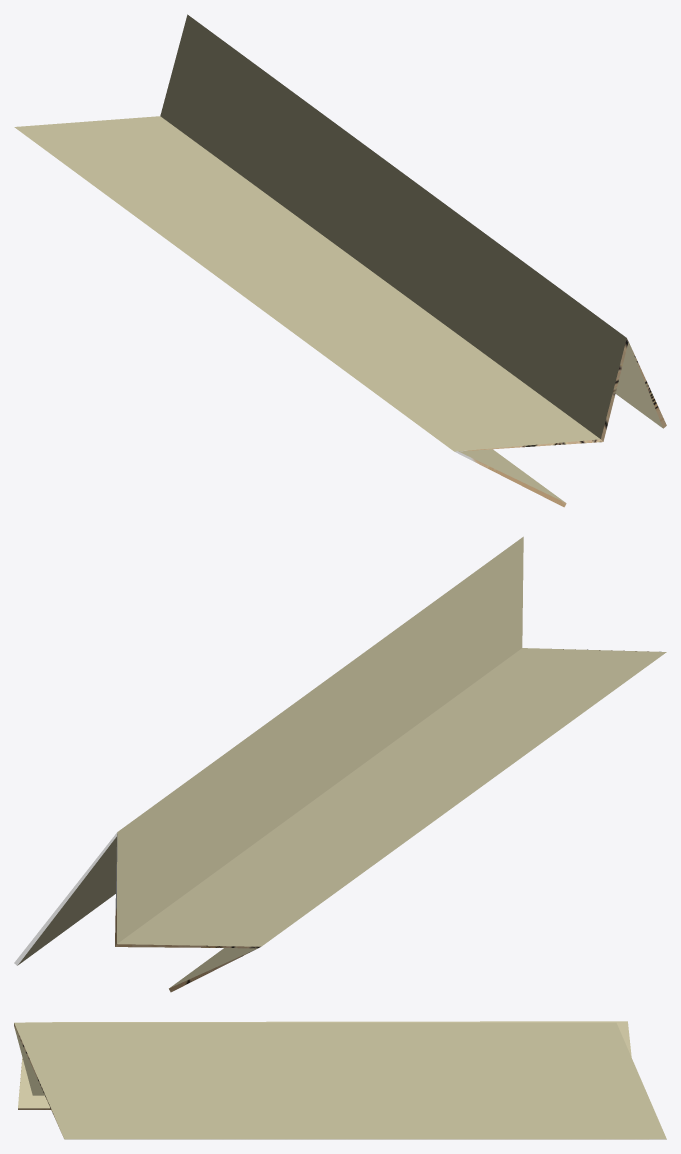
File: newspaper.fbx
3 views of the same model, one above another, from view 1: azimuth 30°, elevation 25°; view 2: azimuth 150°, elevation 25°; view 3: azimuth 270°, elevation 25° (orthographic). The views are drawn at different scales.
Visible parts, largest first — view 1: Plane; view 2: Plane; view 3: Plane.
Part boxes in pixels (x1,y1,x2,y2): Plane: (14,14,666,507); Plane: (14,536,666,992); Plane: (14,1021,666,1139).
Bounding box in the file's own units: 0.243 × 0.1516 × 0.8332.
